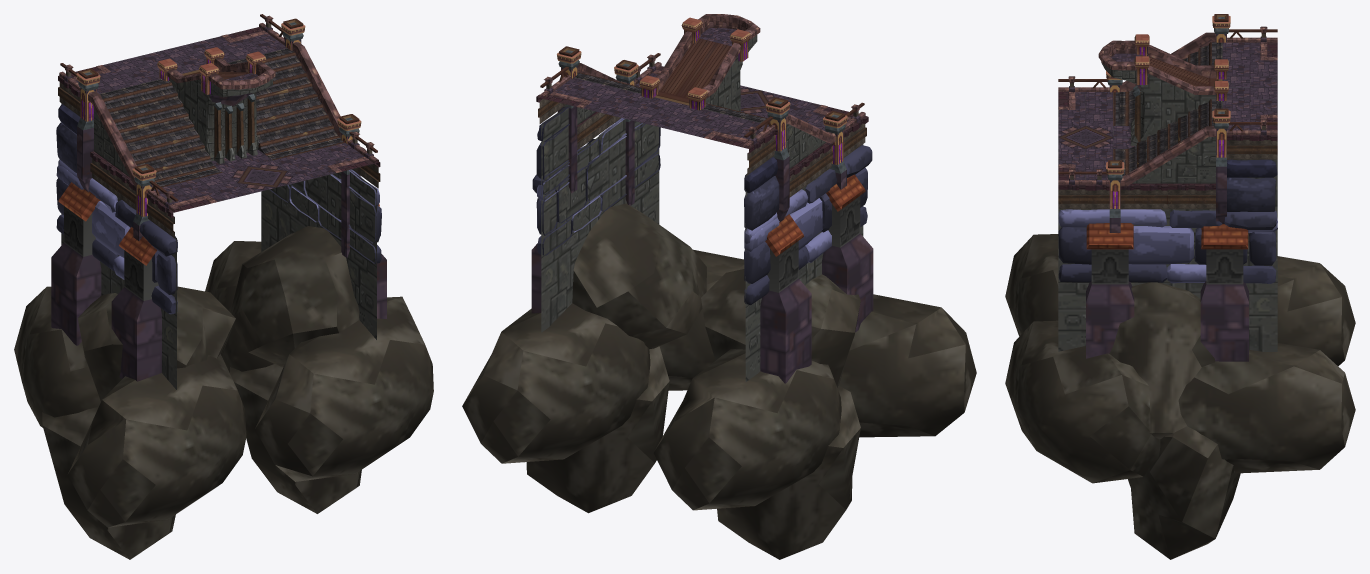
File: Hallway_Stairs_I_16_A.fbx
The picture shows the model from 3 angles, left to right: view 1: azimuth 30°, elevation 25°; view 2: azimuth 150°, elevation 25°; view 3: azimuth 270°, elevation 25°; orthographic projection. The views are drawn at different scales.
Parts seen in each view (by area): view 1: Hallway_Stairs_I_16_A; view 2: Hallway_Stairs_I_16_A; view 3: Hallway_Stairs_I_16_A.
Part boxes in pixels (bbox=[...]): Hallway_Stairs_I_16_A: bbox=[14, 14, 433, 559]; Hallway_Stairs_I_16_A: bbox=[462, 14, 976, 559]; Hallway_Stairs_I_16_A: bbox=[1005, 14, 1355, 559].
Size of the model in its own units: 3030 by 3626 by 2559.
